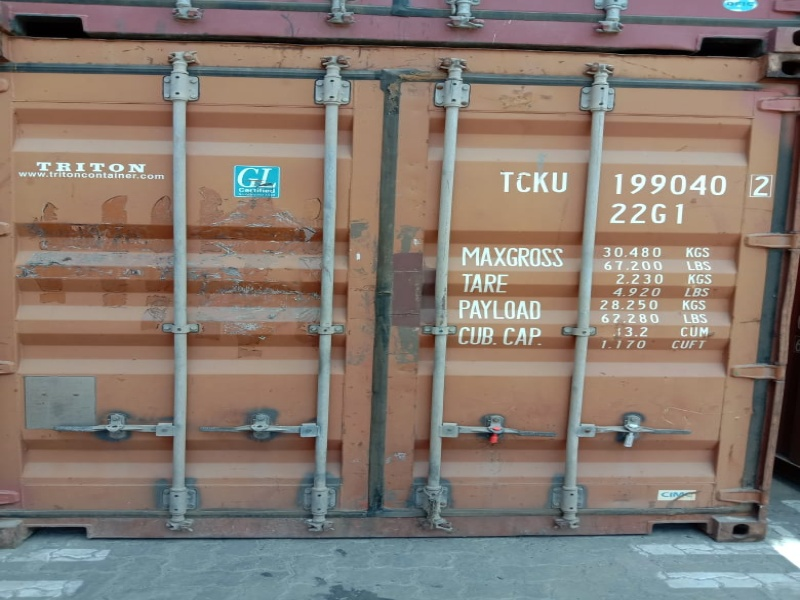iso: (607, 200, 689, 230)
mgw: (456, 242, 721, 274)
serial: (489, 164, 775, 198)
